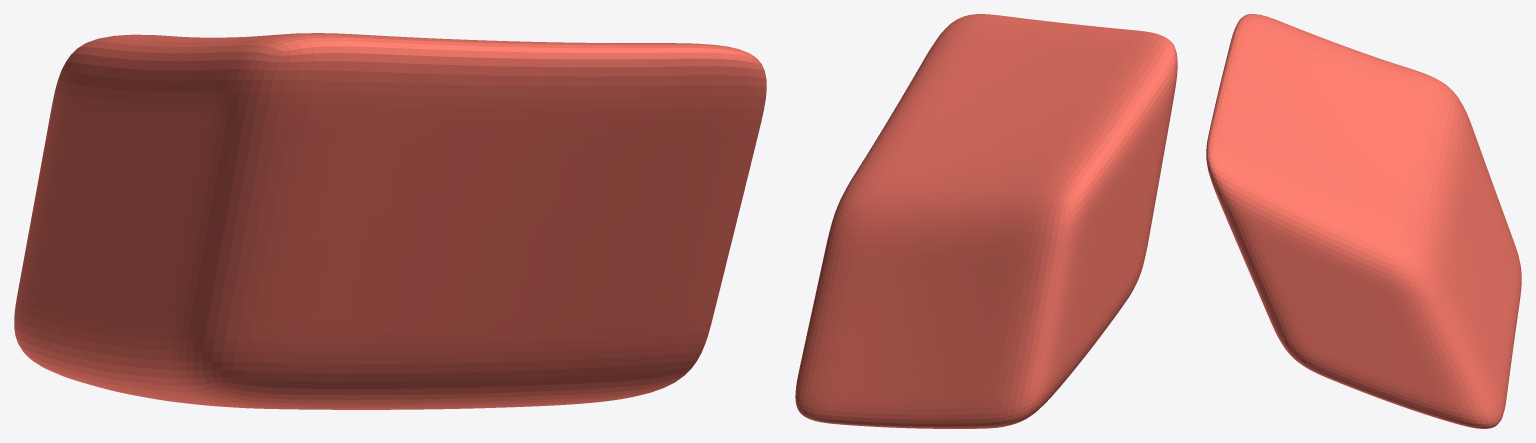
3 renders of one model, left to right at view 1: azimuth 30°, elevation 25°; view 2: azimuth 150°, elevation 25°; view 3: azimuth 270°, elevation 25°, orthographic. The views are drawn at different scales.
Visible parts, largest first — view 1: waves_1.033; view 2: waves_1.033; view 3: waves_1.033.
Boxes of the visible parts, x1,y1,x2,y2 form: waves_1.033: [14, 33, 766, 409]; waves_1.033: [795, 14, 1177, 428]; waves_1.033: [1206, 14, 1521, 428].
Bounding box in the file's own units: 30.45 × 36.03 × 33.21.
